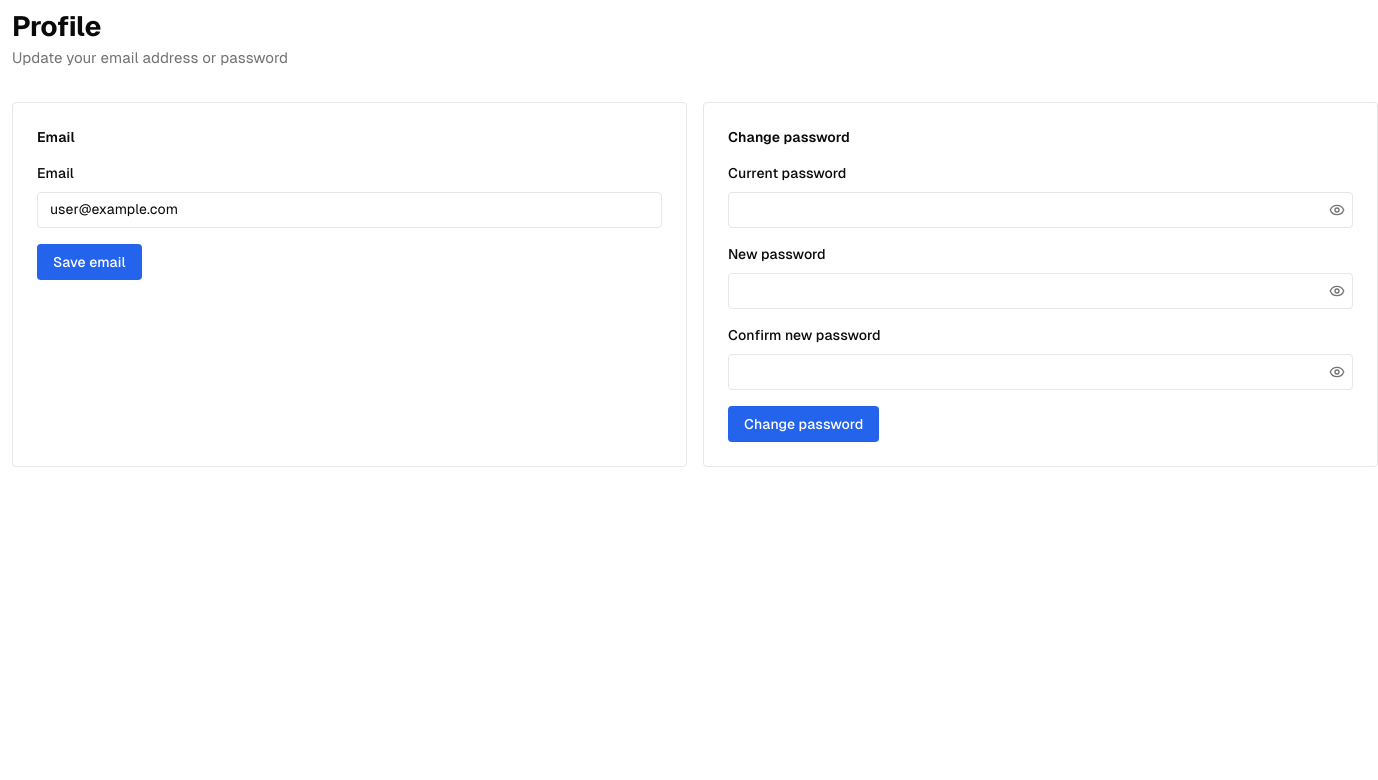
Test case: ProfilePage — password change validation › enforces the 8-character minimum on the new password
Type "short" into the password field labelled "New password" at coordinates (1040, 291), box [728, 273, 1353, 309]
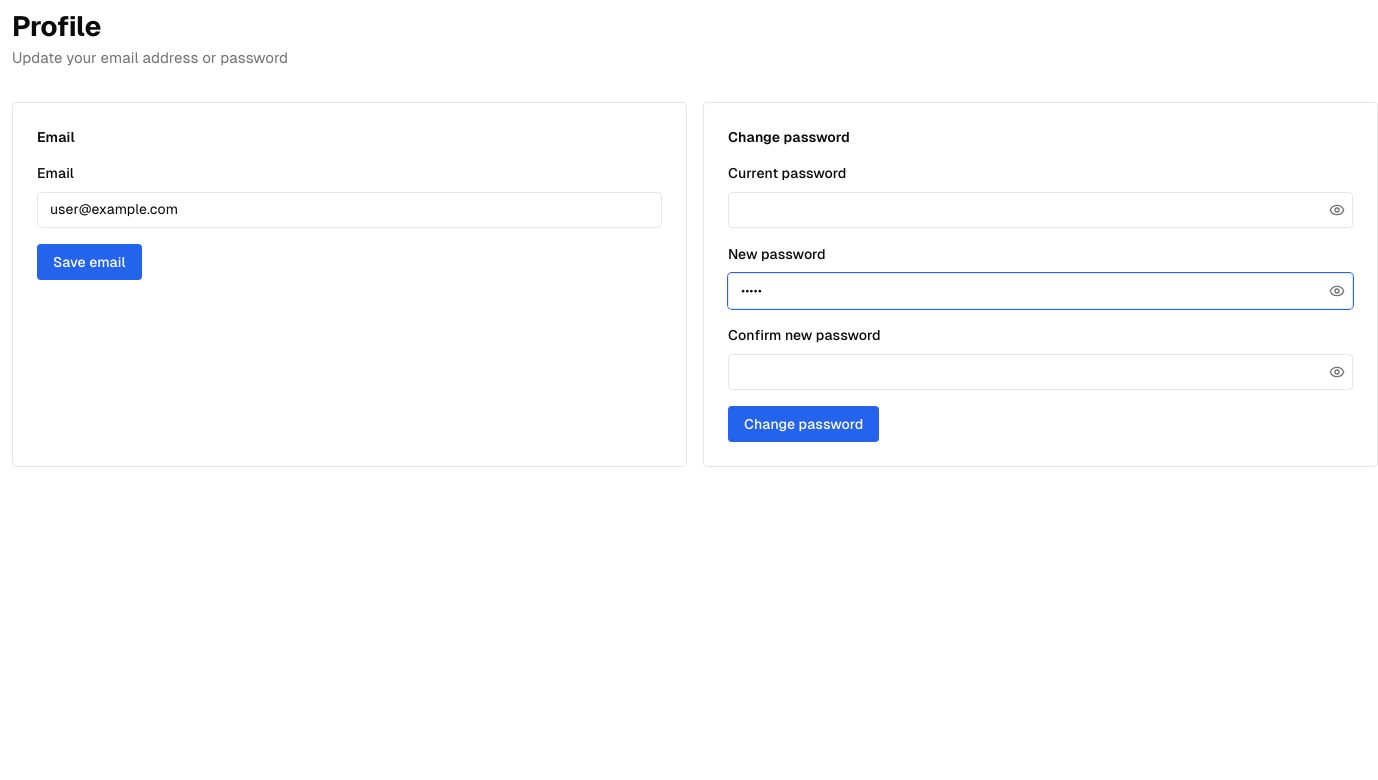
Click the button "Change password" at coordinates (804, 424), box [728, 406, 879, 442]
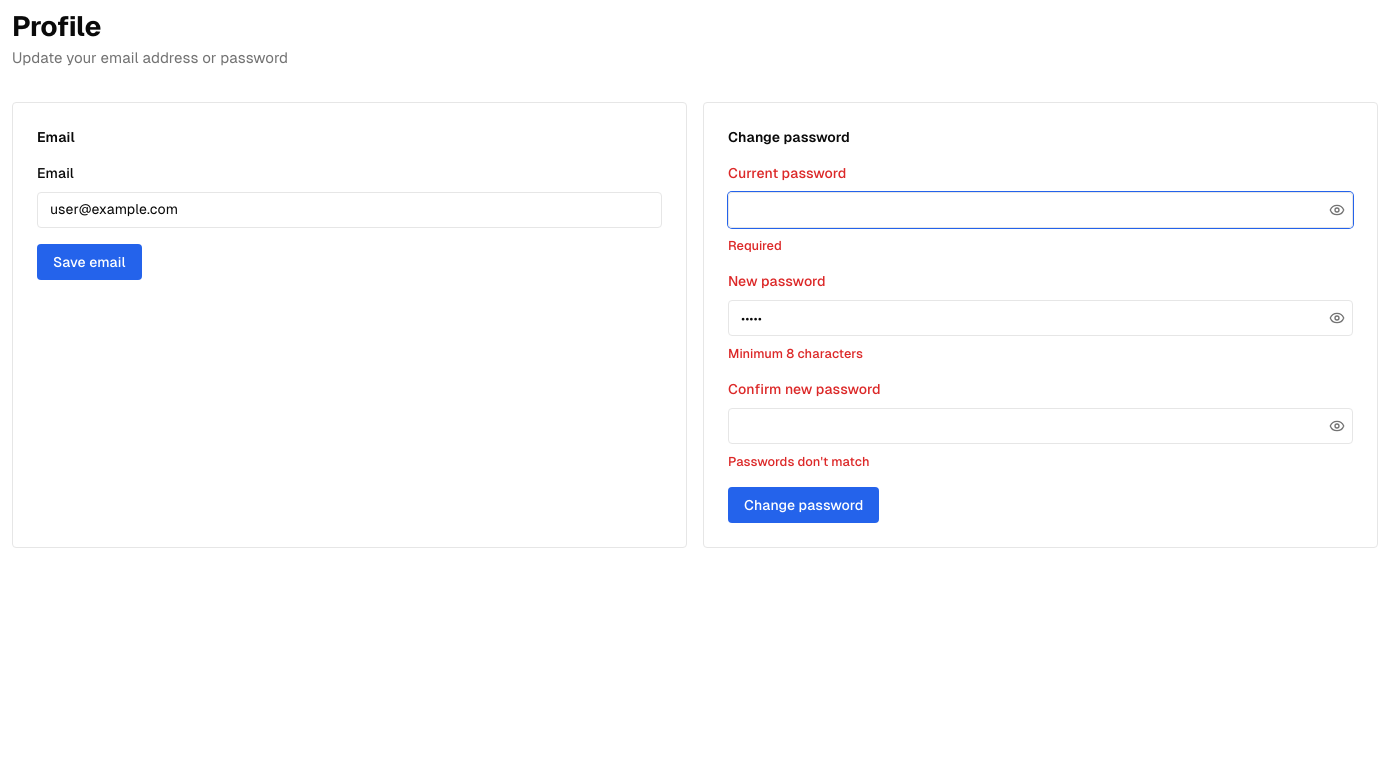
Expected: the text "Minimum 8 characters" is shown, [728, 346, 863, 361]
